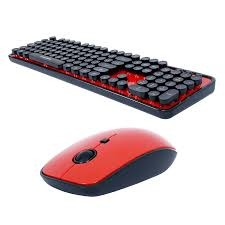keyboard: (6, 30, 219, 122)
mouse: (36, 127, 175, 197)
